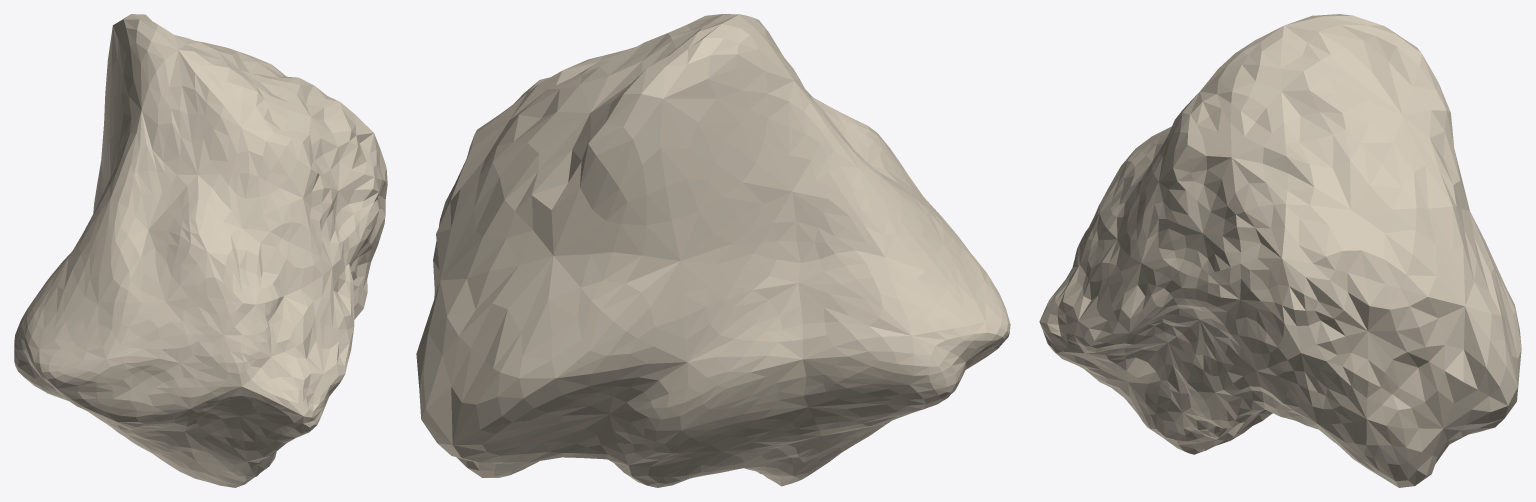
The model's file is Astroid 5.fbx.
3 renders of one model, left to right at view 1: azimuth 30°, elevation 25°; view 2: azimuth 150°, elevation 25°; view 3: azimuth 270°, elevation 25°, orthographic. The views are drawn at different scales.
Parts seen in each view (by area): view 1: Astroid_5; view 2: Astroid_5; view 3: Astroid_5.
Boxes of the visible parts, x1,y1,x2,y2 form: Astroid_5: (14, 14, 387, 487); Astroid_5: (416, 14, 1010, 487); Astroid_5: (1039, 14, 1521, 487).
Bounding box in the file's own units: 490 × 496 × 504.
